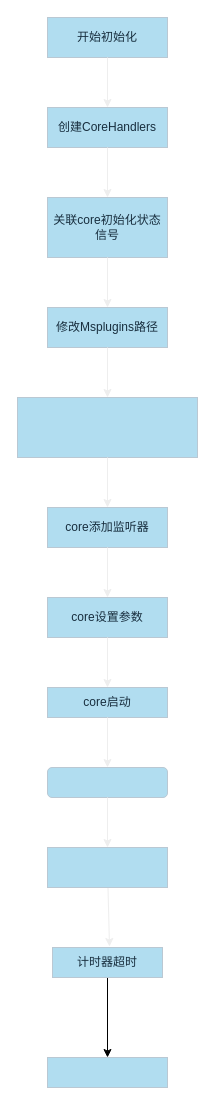
Some shapes in this 215 by 1105 pixel diagram are drawn without their labels. The centre of each missing label's shape, as x and y in pixels:
coreStarting信号发出: (x=107, y=782)
开启linphone事件循环计时器: (x=107, y=867)
执行linphone事件处理: (x=107, y=1072)
通过Factory创建Core,并指定config路径: (x=107, y=427)
